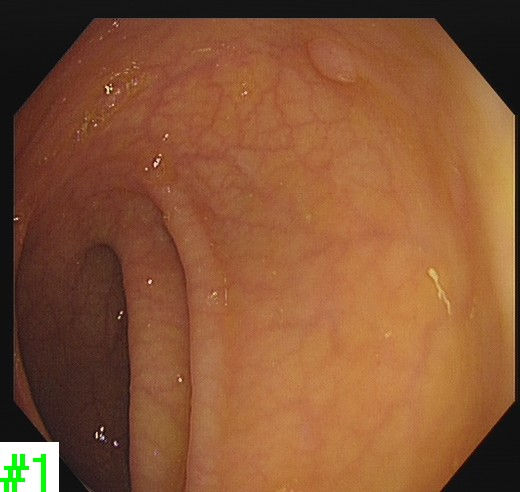adenoma: (303, 34, 360, 88)
